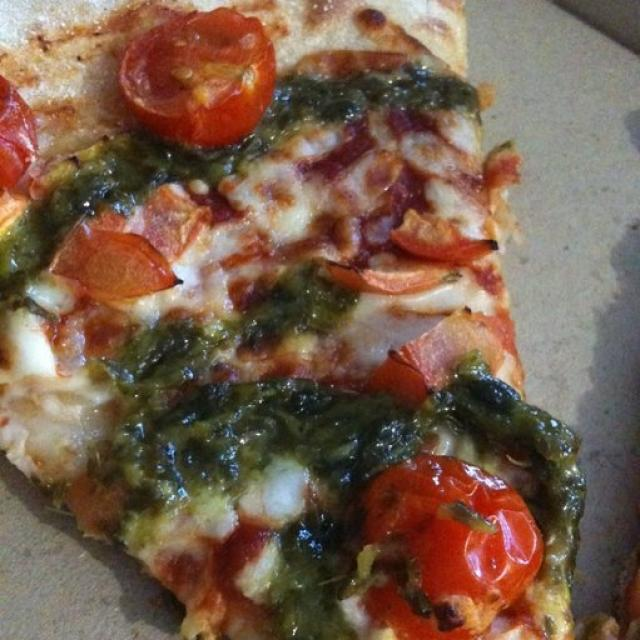Tomato: (364, 461, 543, 640), (123, 12, 278, 144), (336, 211, 493, 293), (67, 226, 183, 295), (0, 72, 39, 192)
